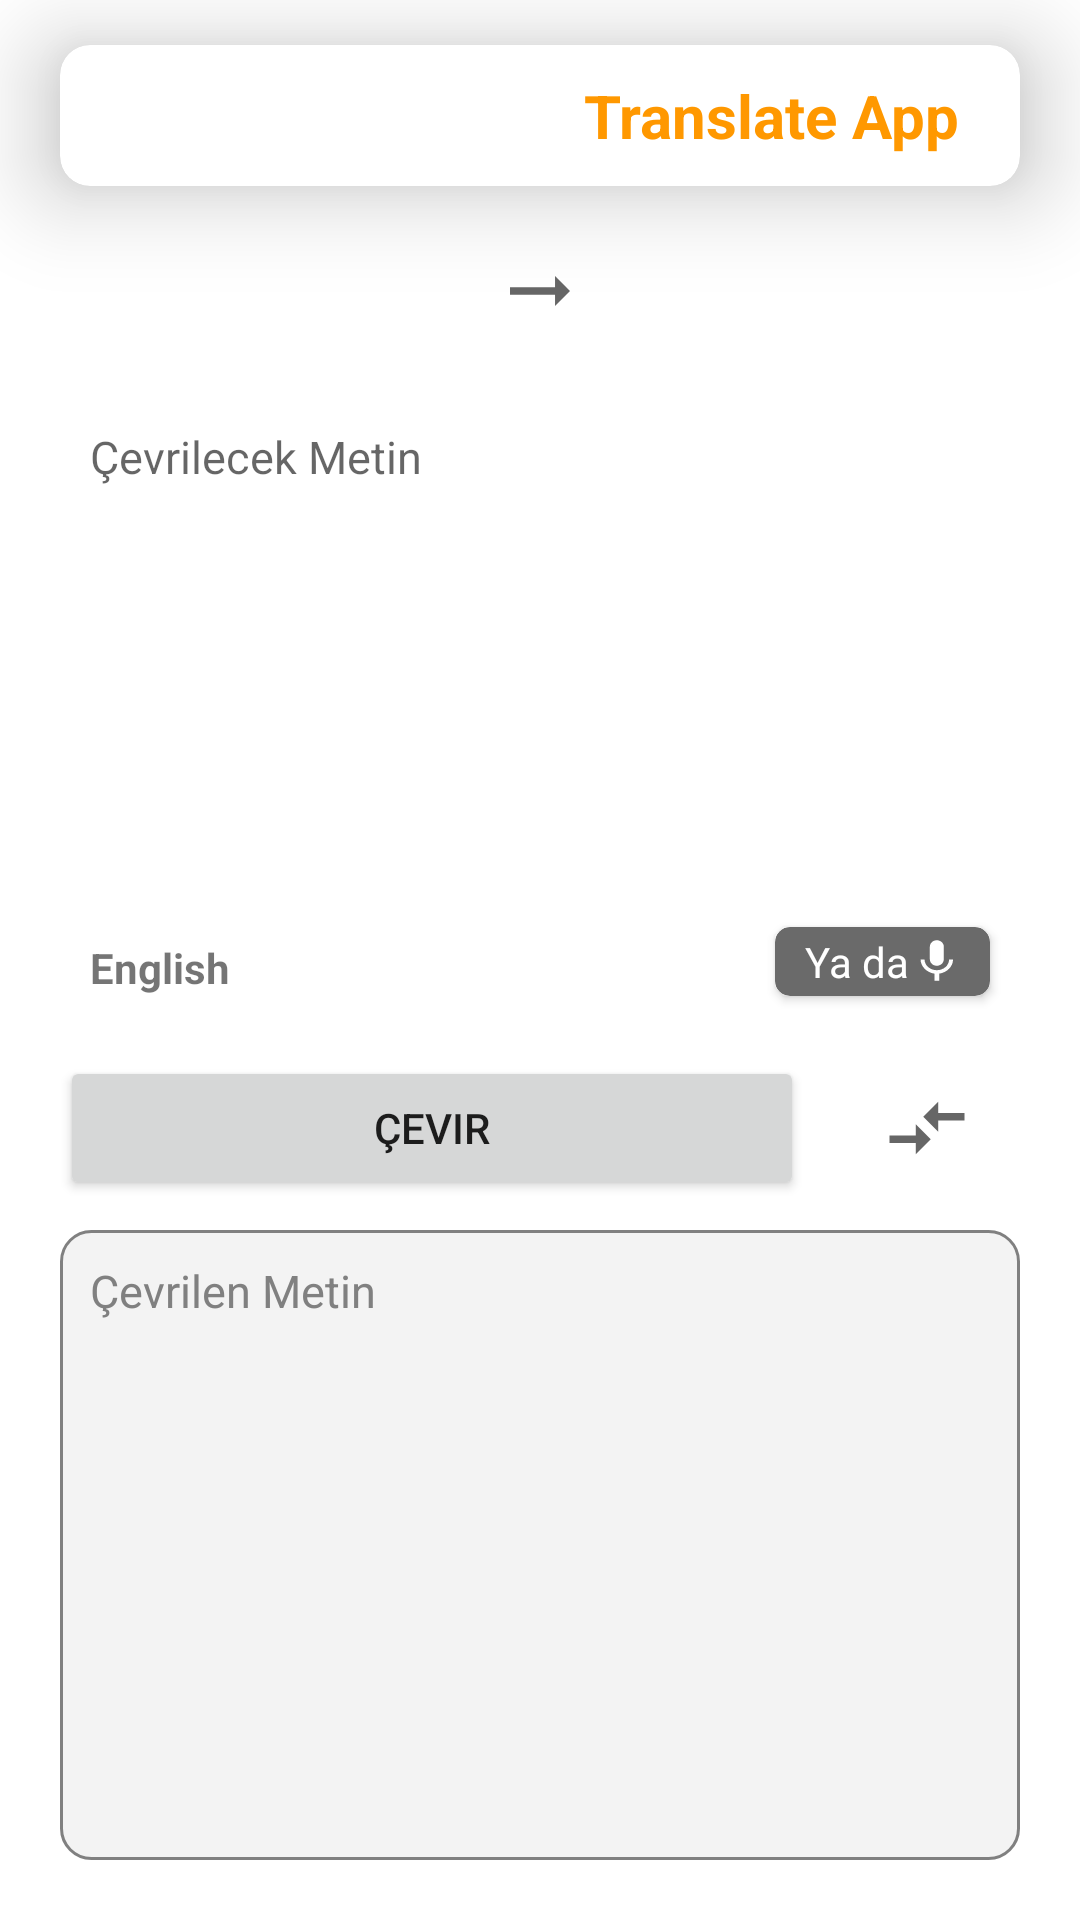

Screen size 1080px×1920px. Icon name, then its box in pixels as [left=x1, top=y1, right=x2, bottom=y2]:
compare arrow: [left=889, top=1102, right=965, bottom=1154]
mic: [left=920, top=940, right=953, bottom=981]
right arrow: [left=510, top=276, right=570, bottom=306]
